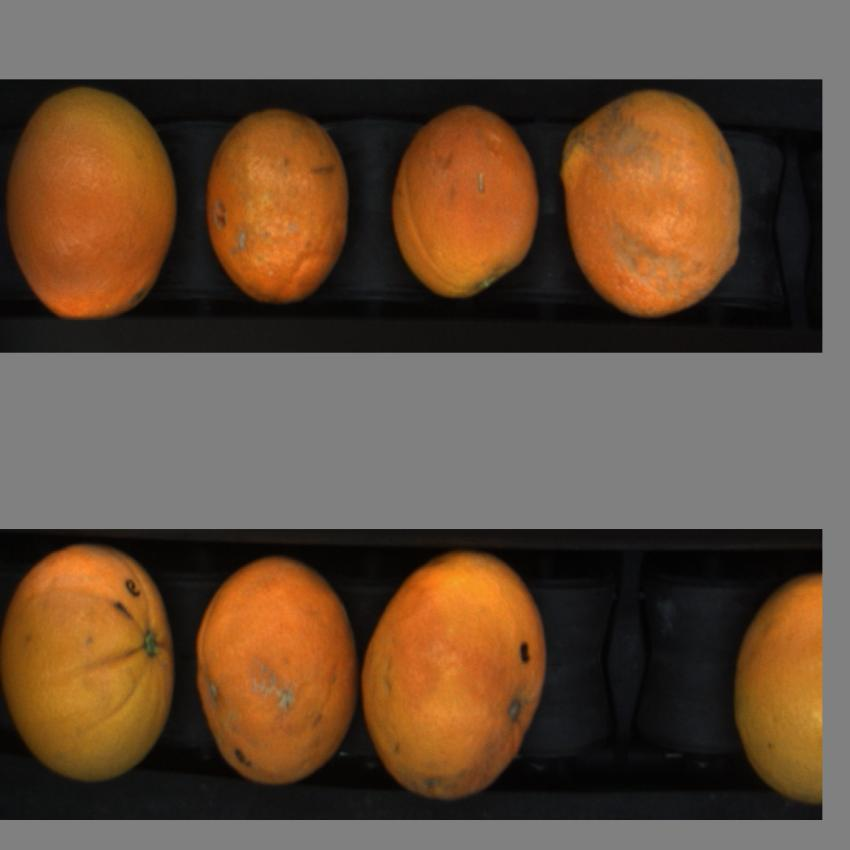Buen estado: (354, 549, 562, 806), (2, 541, 181, 798), (5, 80, 178, 338), (189, 552, 359, 798), (728, 564, 822, 822)
Mal estado: (559, 88, 748, 330), (200, 92, 356, 339), (387, 104, 543, 318)
